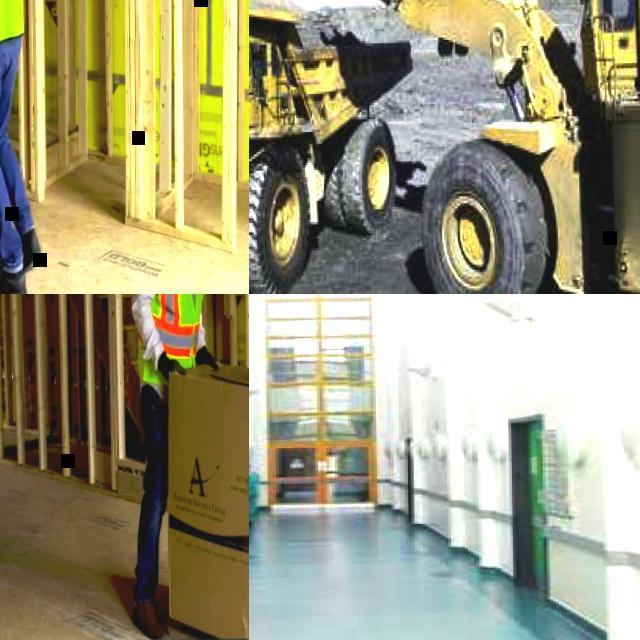vest: (130, 294, 208, 399)
